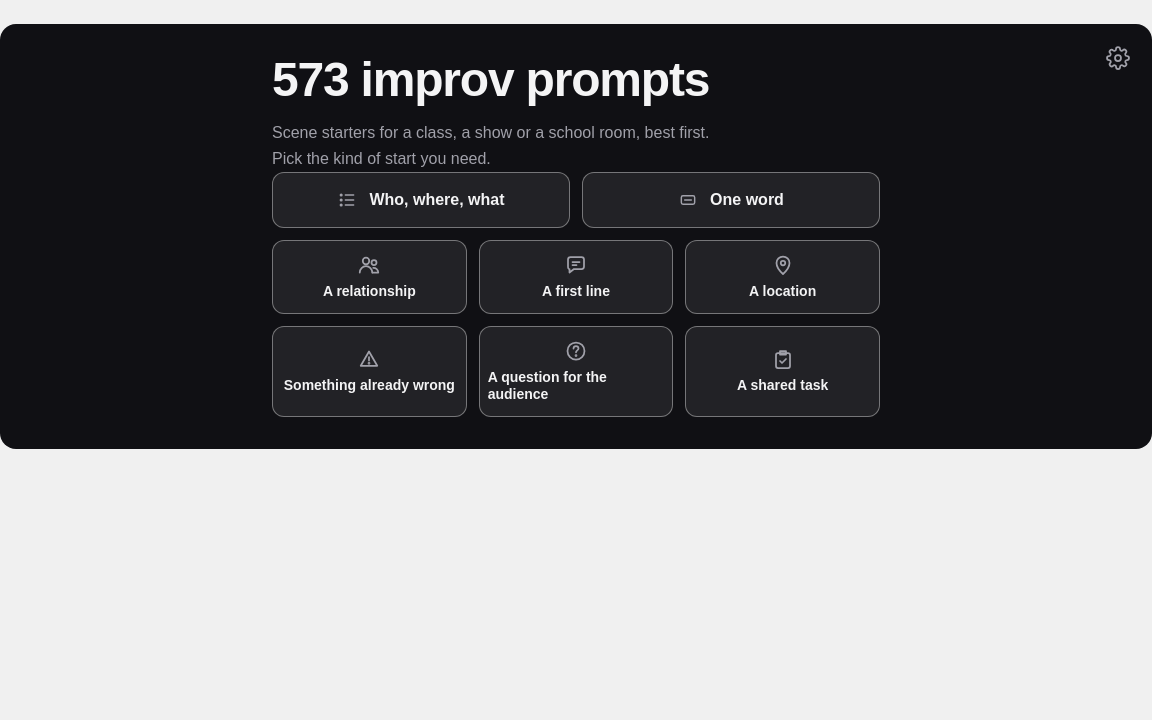
Test: the keys and the clock › shows no clock until the cog sets an interval
Click the button "A relationship" at (369, 277), box [272, 240, 467, 314]
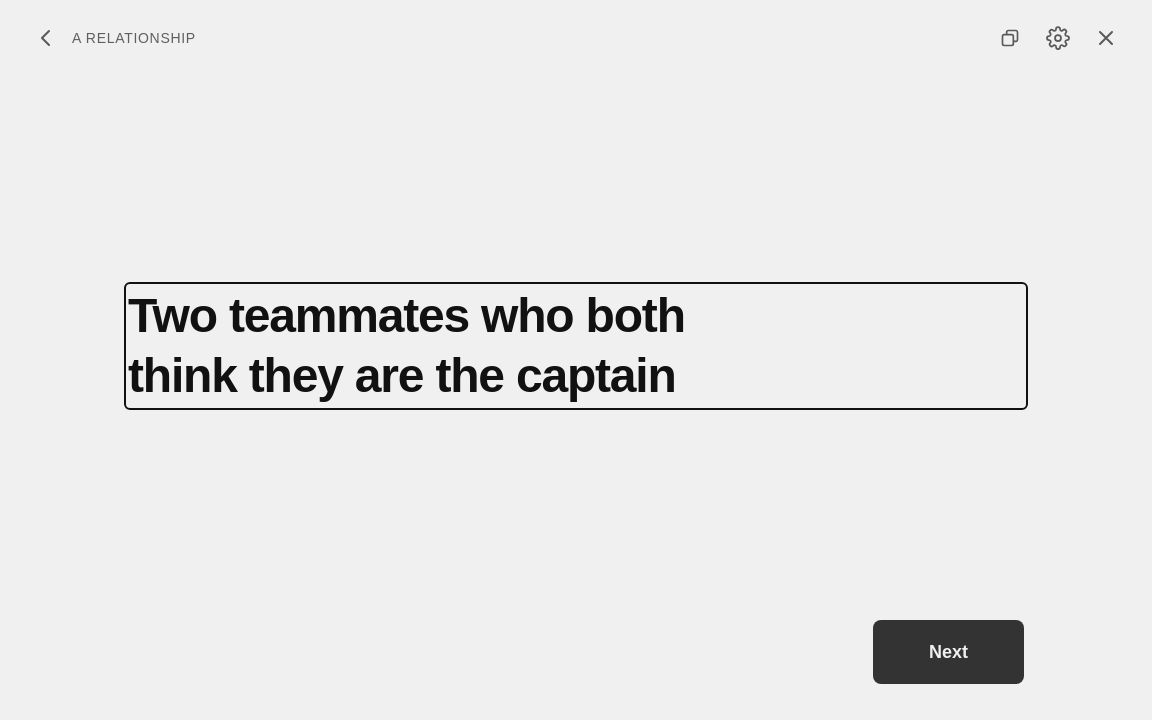
expect the text "Two teammates who both think they are the captain" is shown: met, box [128, 289, 685, 402]
